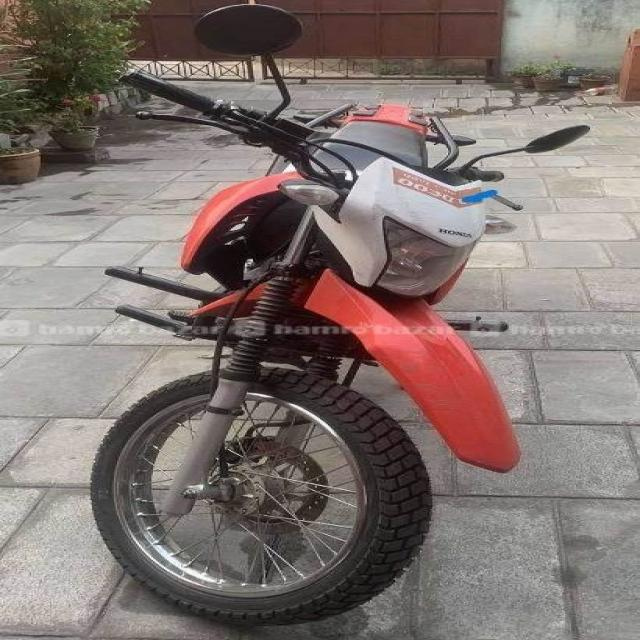License-plate: (365, 167, 490, 213)
